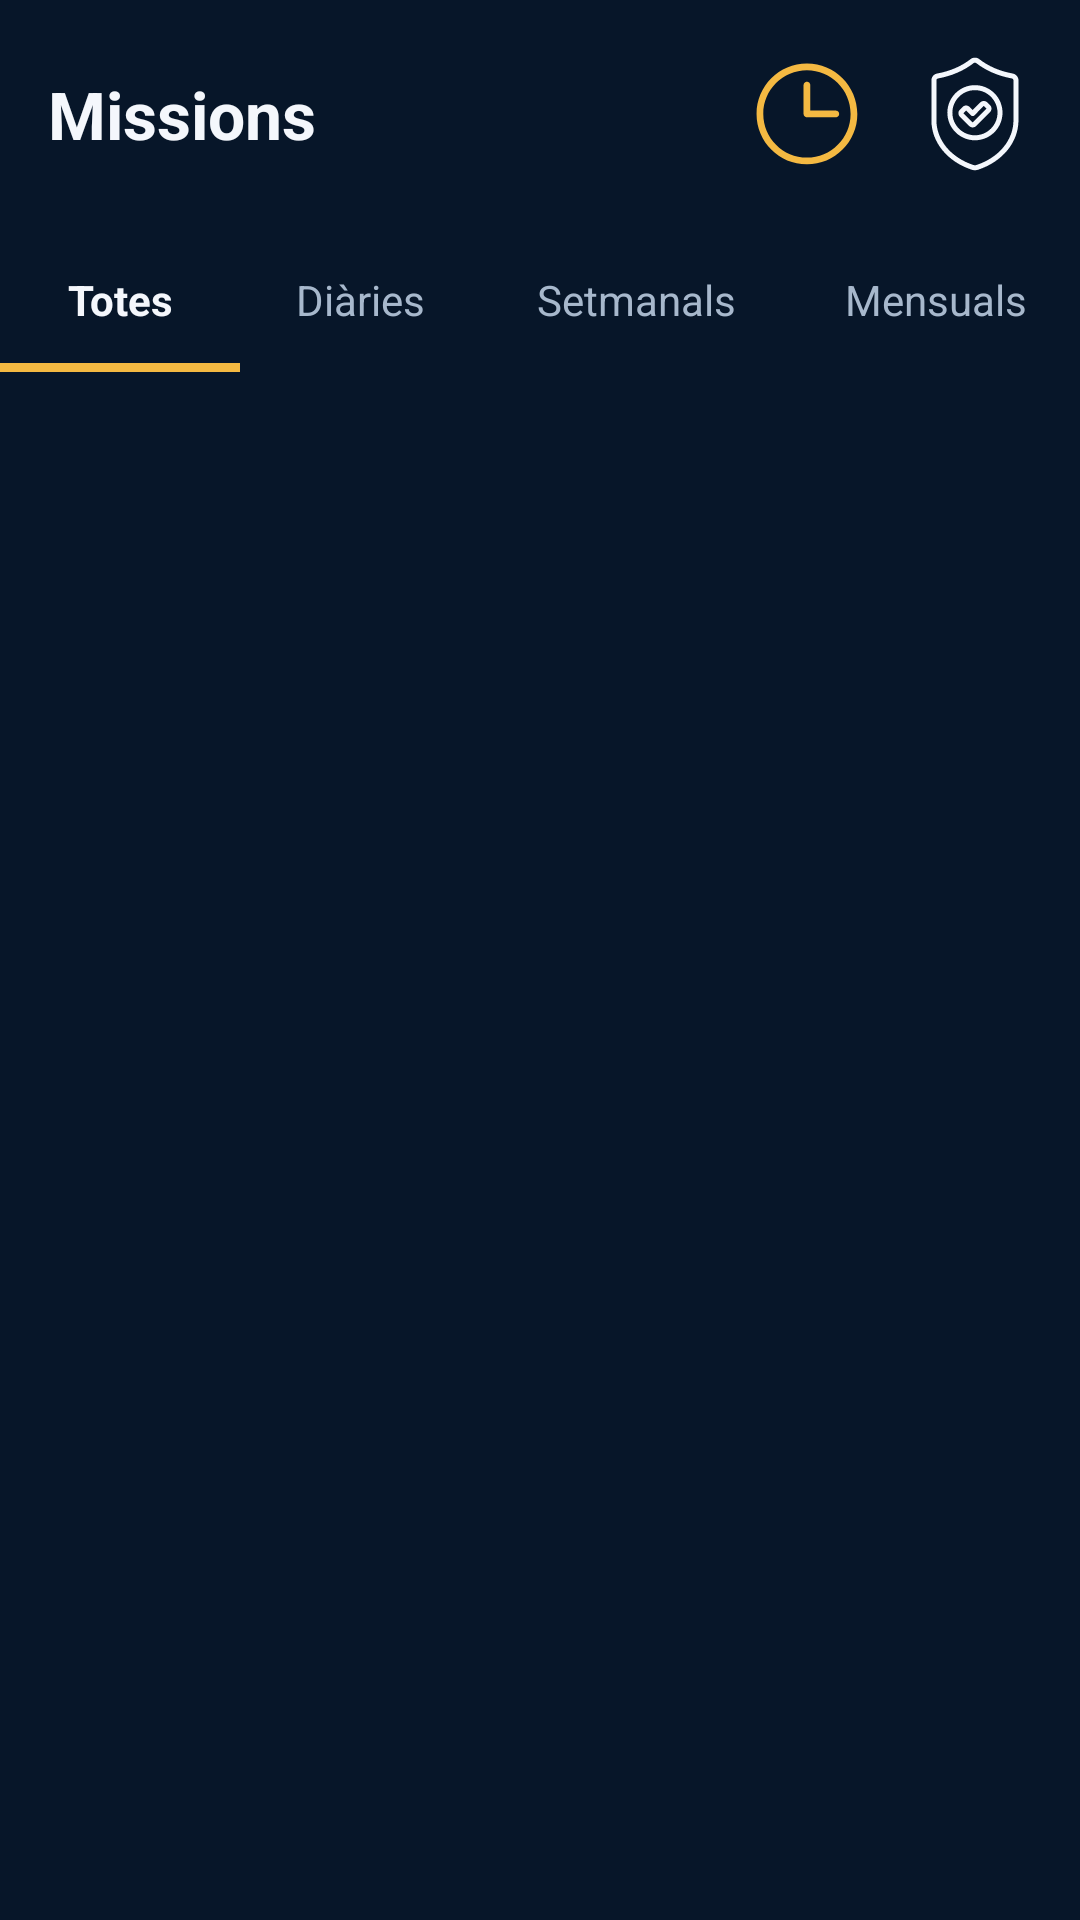

Named icons in this screenshot (1080px×1920px) and their bounding boxes, (x1, y1, x2, y2):
Accedir a les missions permanents: (931, 57, 1019, 171)
